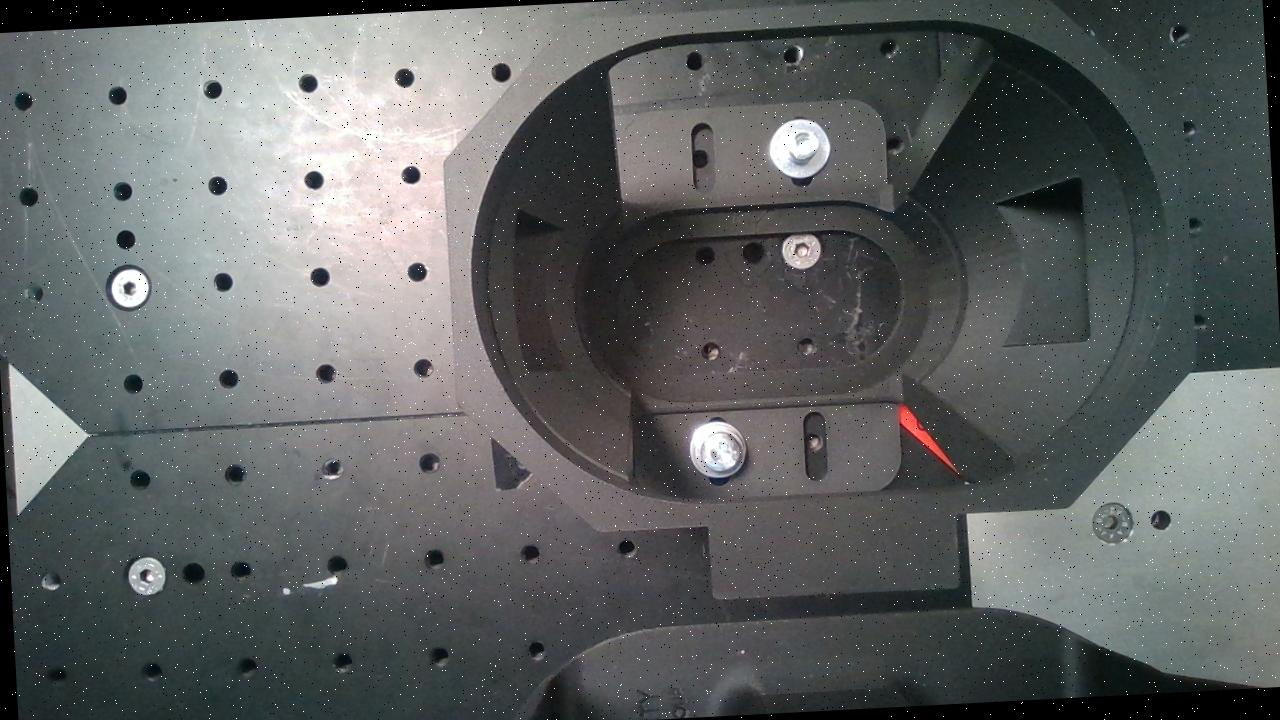big_interface: (435, 0, 1203, 541)
